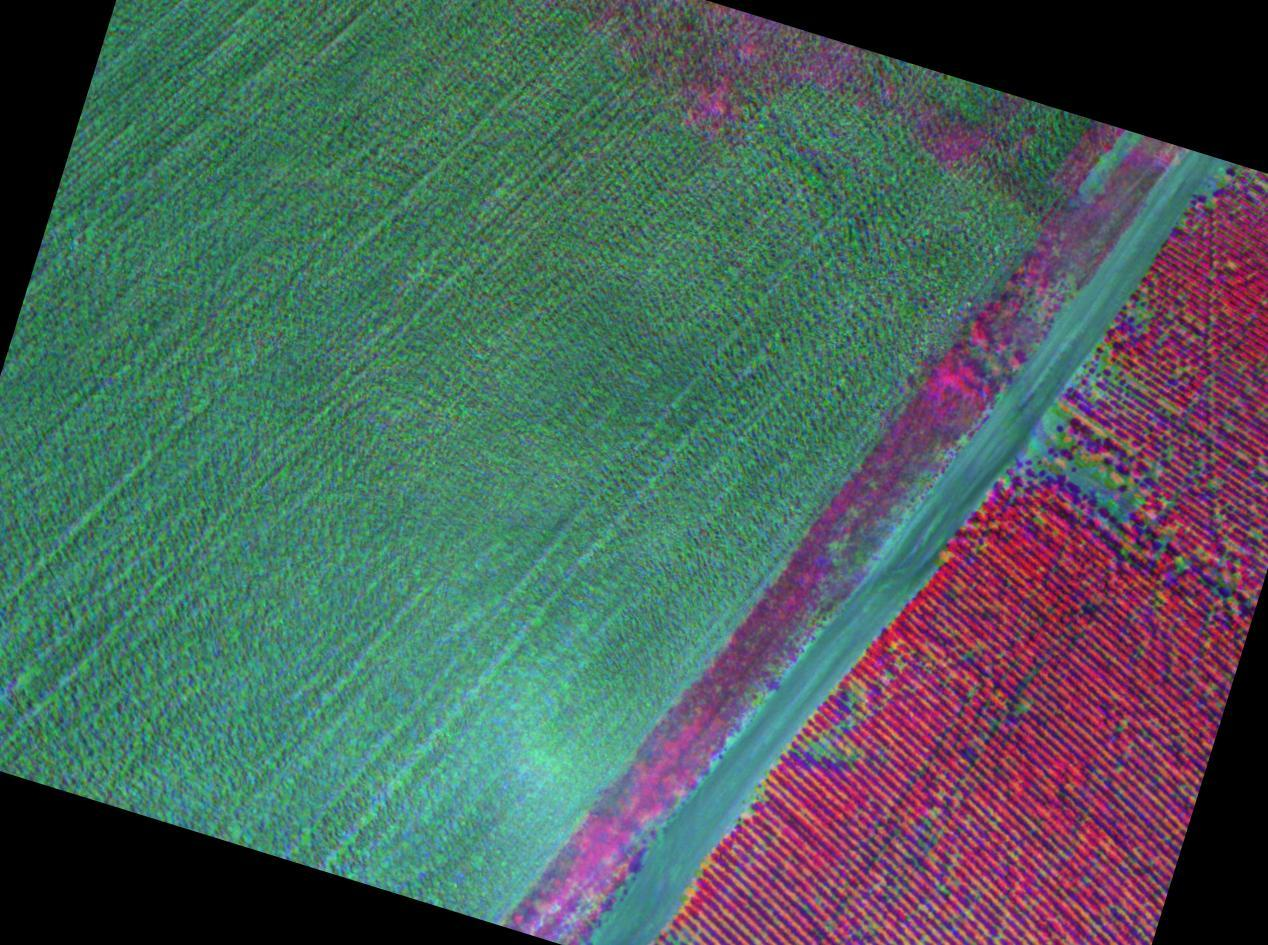dc: (1056, 438, 1063, 443), (815, 745, 820, 751), (1115, 506, 1121, 510), (1101, 357, 1106, 361), (1080, 476, 1085, 480), (1005, 479, 1010, 483)
